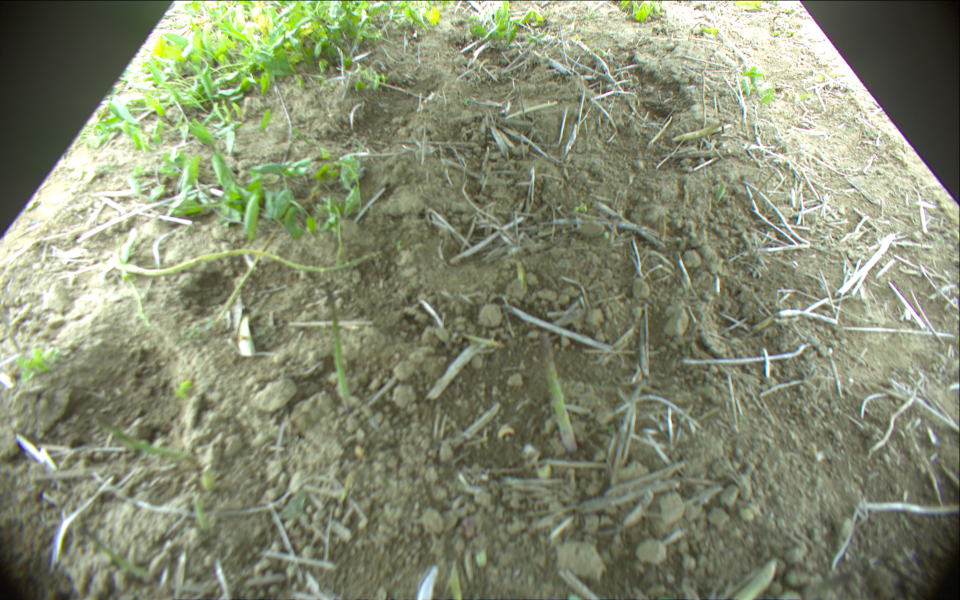aspa: (94, 414, 196, 469), (538, 332, 578, 453), (77, 520, 150, 582), (324, 284, 347, 404), (191, 494, 210, 538)
